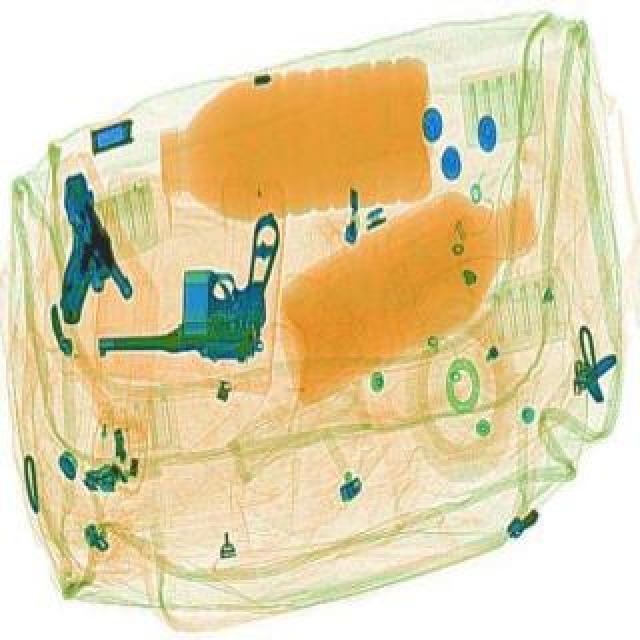gun: (90, 210, 286, 366), (4, 162, 144, 326)
